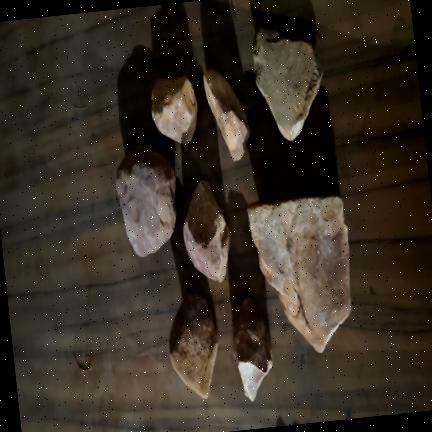Rocks: (247, 197, 350, 352), (252, 27, 321, 140), (116, 145, 175, 257), (169, 295, 217, 398), (182, 181, 229, 282), (203, 70, 249, 161), (232, 298, 271, 400), (151, 77, 196, 144)
